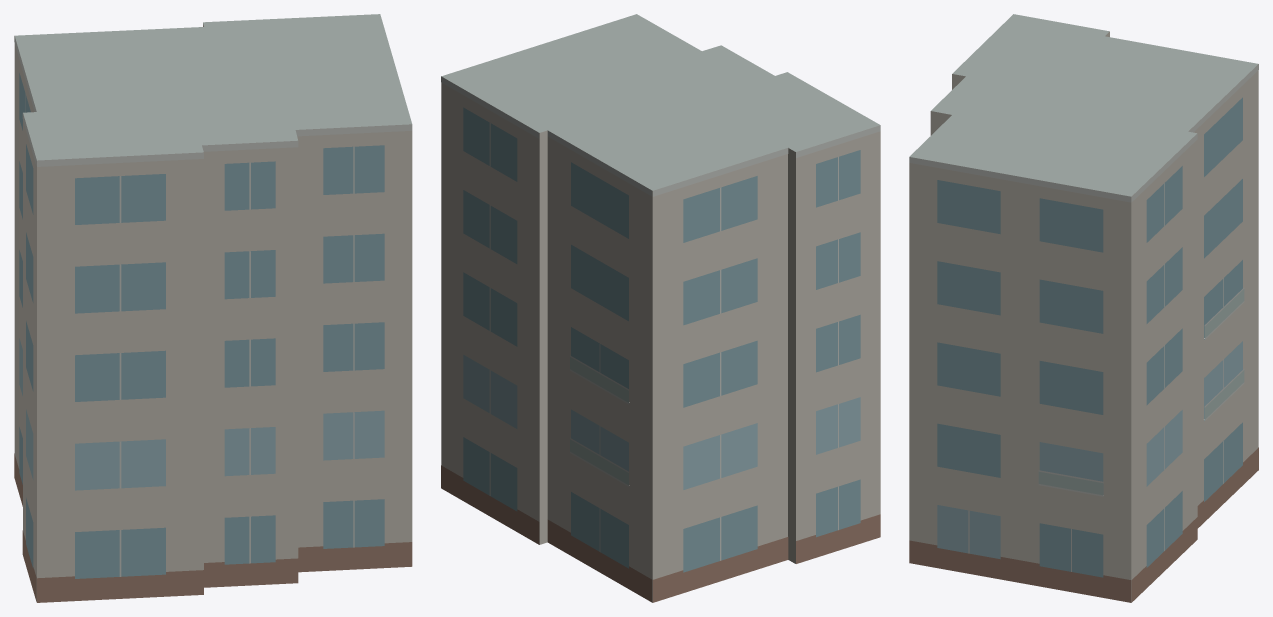
File: survey-upis-32475380.glb
3 views of the same model, side by side, from view 1: azimuth 30°, elevation 25°; view 2: azimuth 150°, elevation 25°; view 3: azimuth 270°, elevation 25° (orthographic). The views are drawn at different scales.
Visible parts, largest first — view 1: survey-upis-32475380.tmp; view 2: survey-upis-32475380.tmp; view 3: survey-upis-32475380.tmp.
Part boxes in pixels (x1=…): survey-upis-32475380.tmp: x1=14, y1=14, x2=412, y2=602; survey-upis-32475380.tmp: x1=441, y1=14, x2=880, y2=602; survey-upis-32475380.tmp: x1=909, y1=14, x2=1258, y2=602.
Size of the model in its own units: 16.02 by 16.6 by 12.95.
